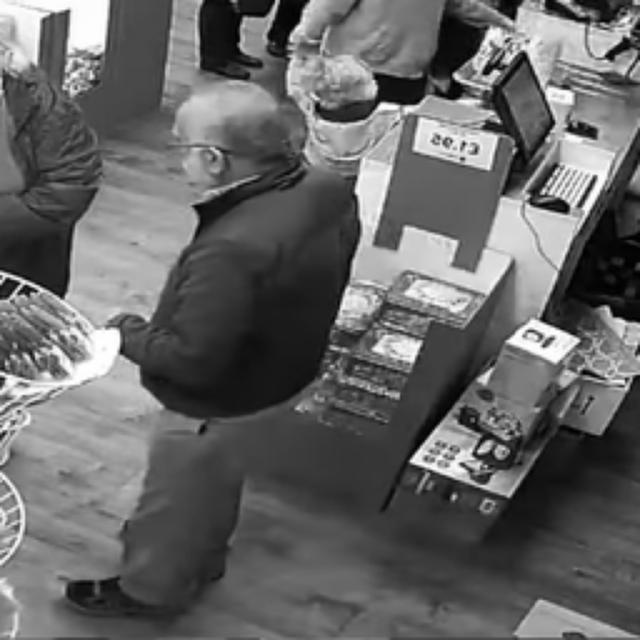Invader: (62, 78, 360, 618), (0, 0, 105, 638), (281, 0, 528, 120), (286, 48, 423, 179), (187, 0, 276, 89), (264, 0, 321, 64)
